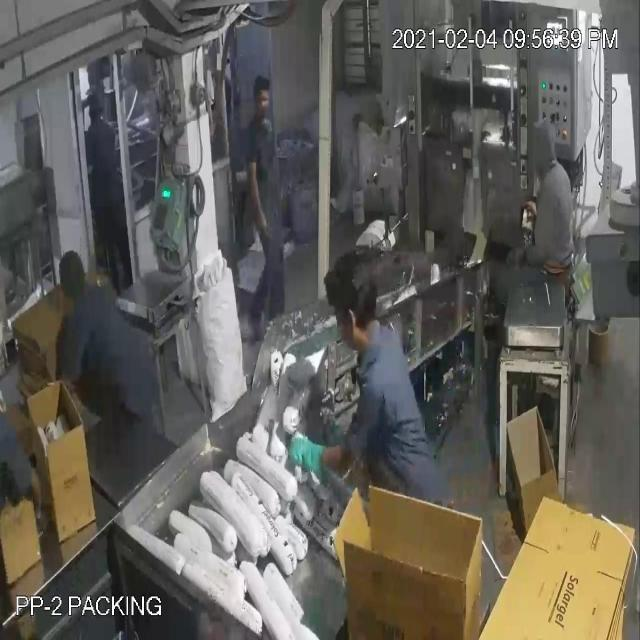No_Gloves: (30, 80, 316, 453)
